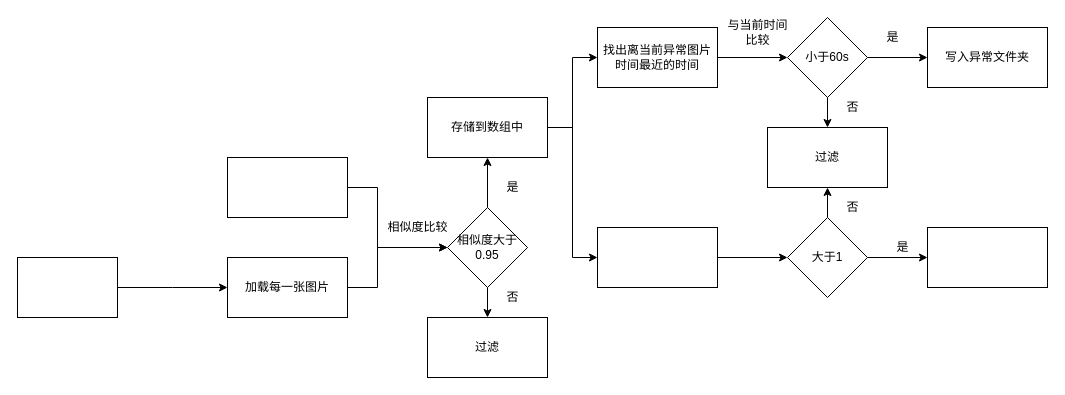
Some shapes in this 1065 by 395 pixel diagram are drawn without their labels. The shapes that lost their labels are listed below. From the top down, each one's centre as x and y in pixels, then its label:
pixel 287 187: 异常图片
pixel 657 257: 统计数据的长度
pixel 987 257: 发送报警
pixel 67 287: 存放异常文件夹
